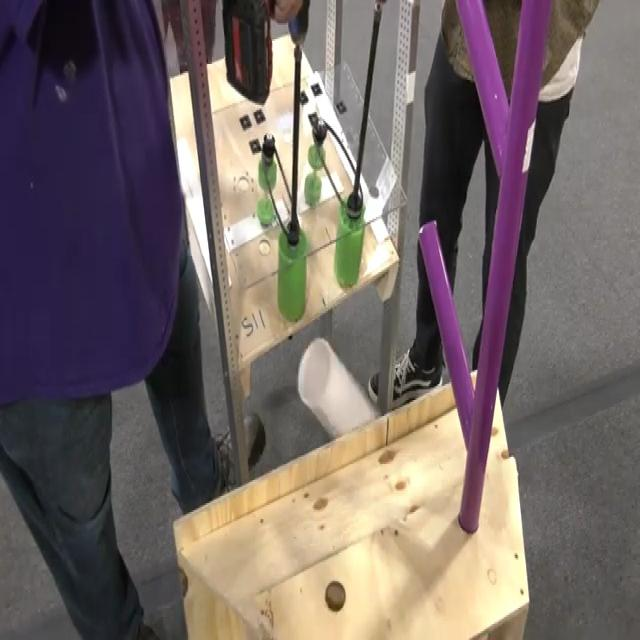Coral: (296, 334, 379, 439)
